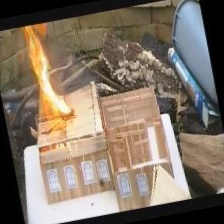fire: (17, 18, 86, 131)
